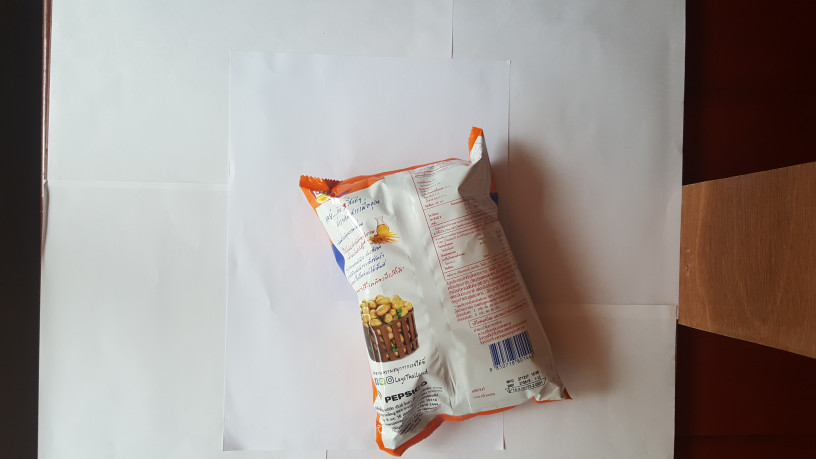lays-bbq: (297, 123, 578, 457)
